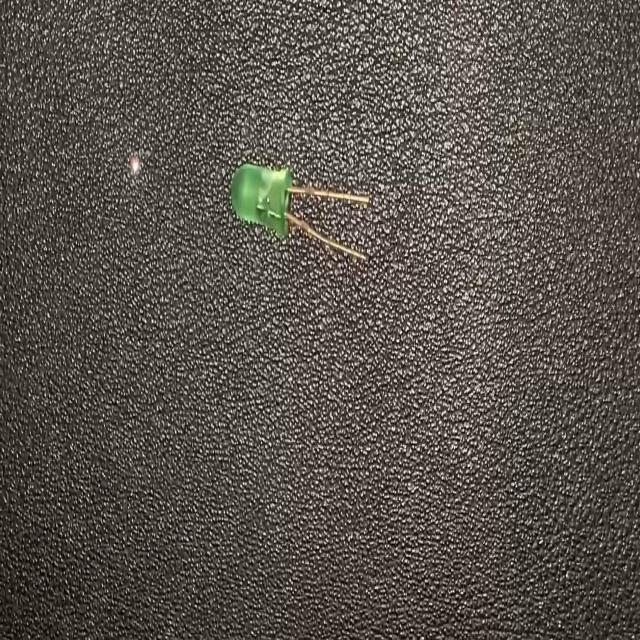LED: (228, 159, 371, 268)
